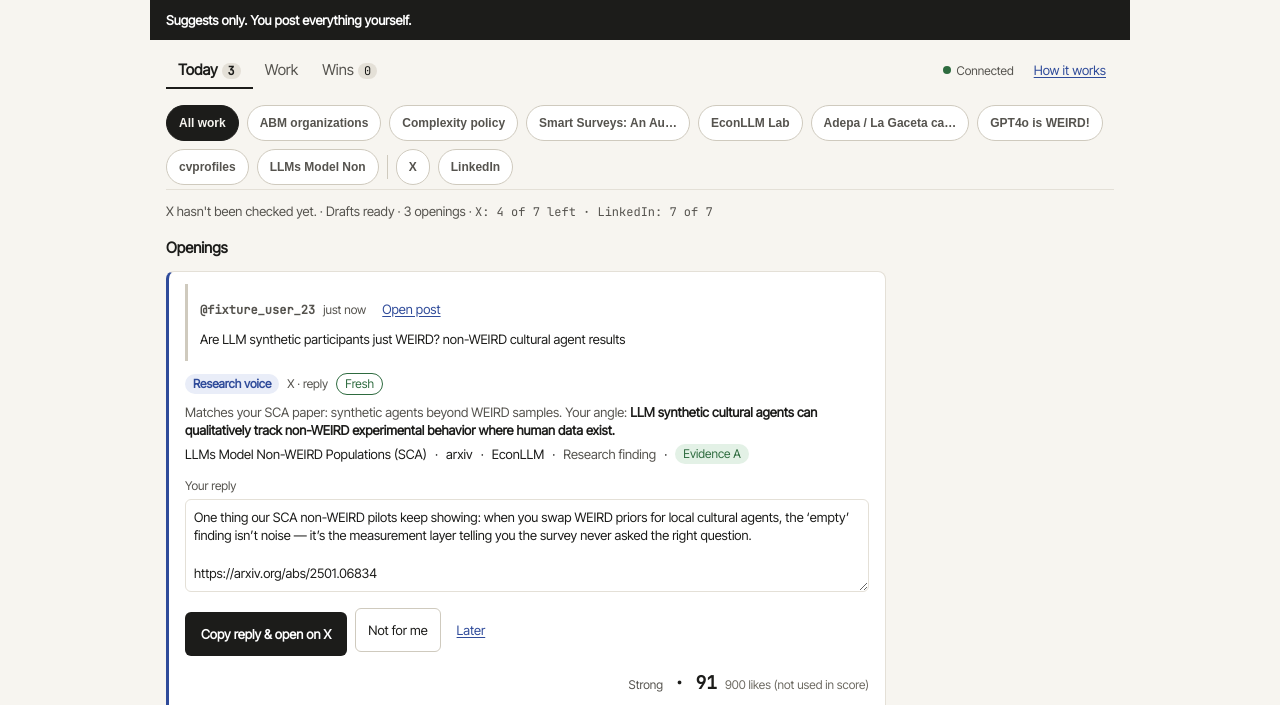
Test: DoR chrome › ui:invariants_in_guide — plain-words invariants live in How it works; banner always visible
Click the button with test id "how-it-works" at (1070, 70), box [1026,57,1114,84]
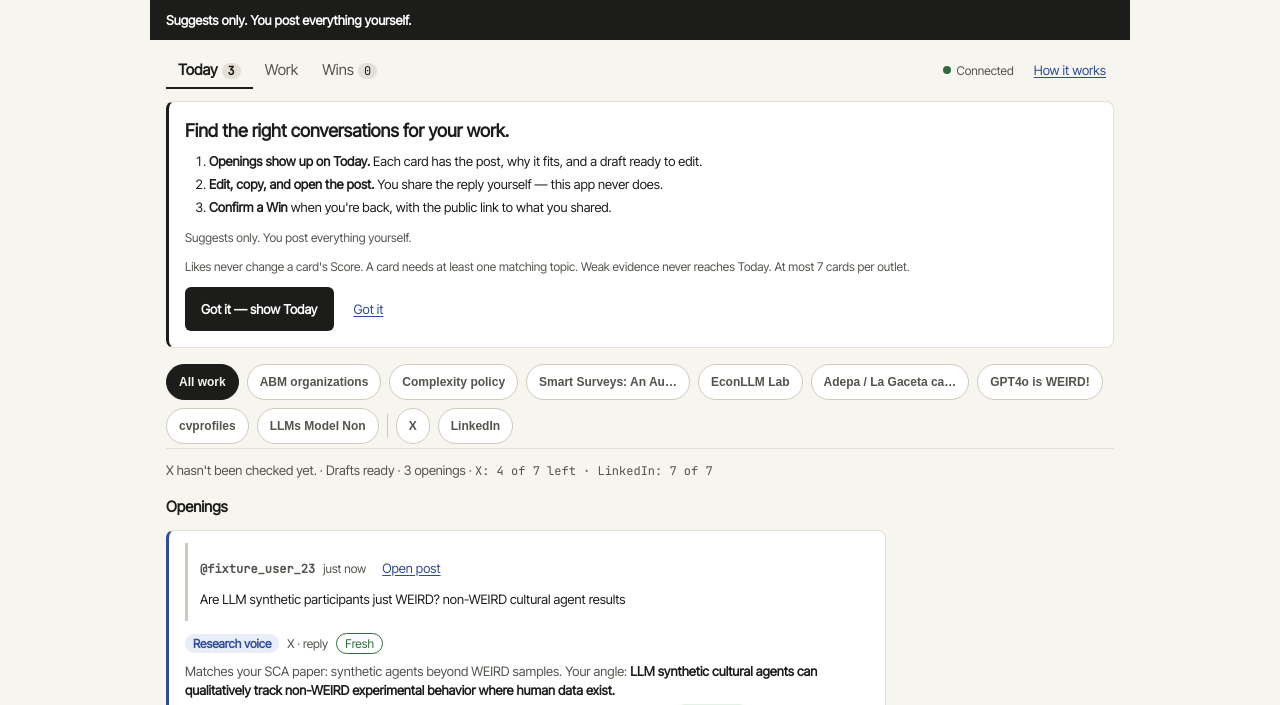
Expected: the text with test id "banner" is shown, [150,0,1130,40]
Expected: the text with test id "invariants" shows "Likes never change a card's Score", [185,259,910,274]
